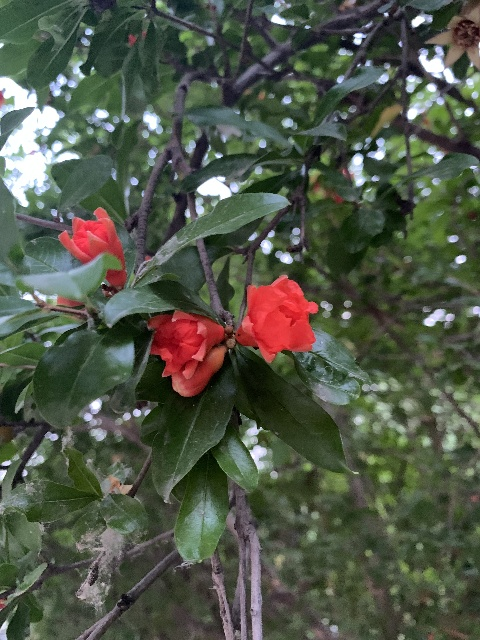bud: (170, 344, 226, 397)
flower: (235, 274, 319, 363), (57, 206, 125, 287), (147, 309, 224, 377)
